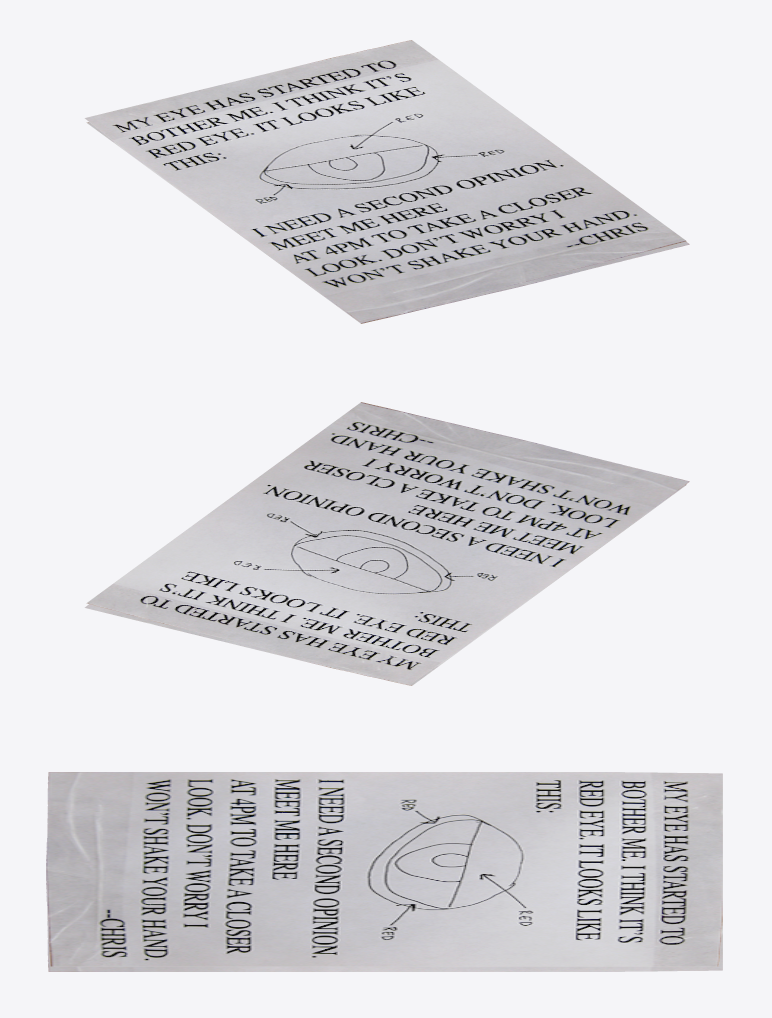
The model's file is off_decal13.fbx.
3 views of the same model, one above another, from view 1: azimuth 30°, elevation 25°; view 2: azimuth 150°, elevation 25°; view 3: azimuth 270°, elevation 25° (orthographic). The views are drawn at different scales.
Parts seen in each view (by area): view 1: Plane01, Duplicate00; view 2: Plane01, Duplicate00; view 3: Plane01, Duplicate00.
Boxes of the visible parts, x1,y1,x2,y2 form: Plane01: (84,40,686,321); Duplicate00: (86,122,689,323); Plane01: (86,402,689,683); Duplicate00: (84,484,686,685); Plane01: (46,772,722,966); Duplicate00: (46,875,722,971).
Size of the model in its own units: 12.83 by 0.0909 by 15.54.
